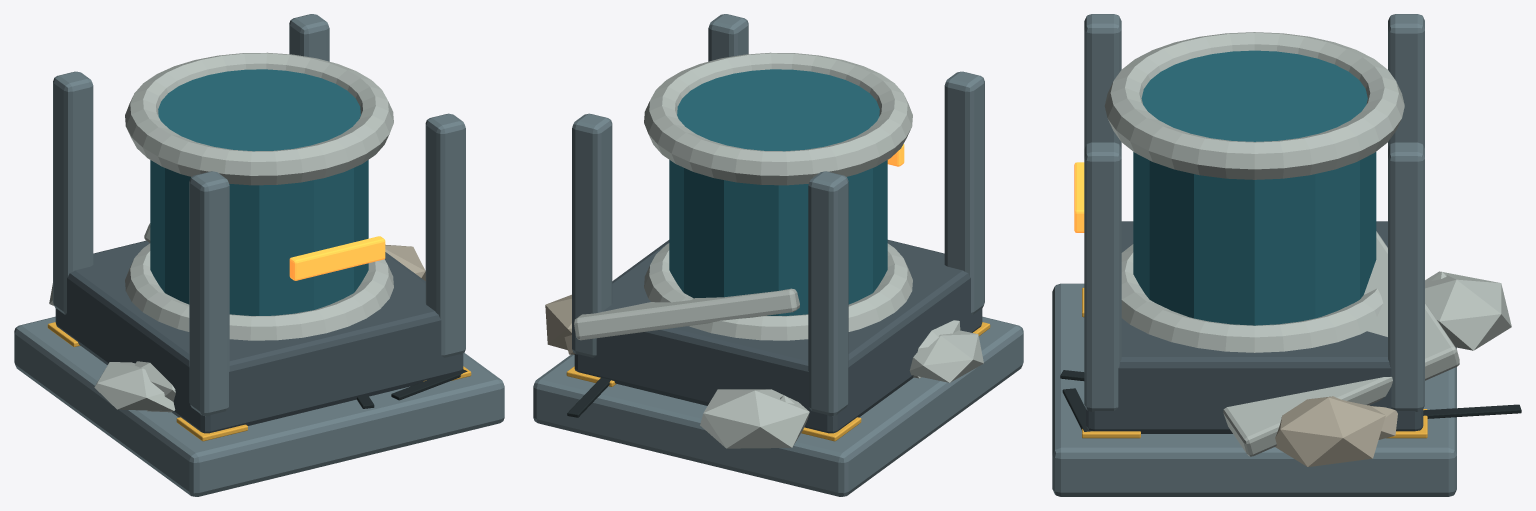
Rendered from research_specimen_crate_d2.glb.
3 renders of one model, left to right at view 1: azimuth 30°, elevation 25°; view 2: azimuth 150°, elevation 25°; view 3: azimuth 270°, elevation 25°, orthographic. The views are drawn at different scales.
Visible parts, largest first — view 1: Cryogenic vessel.002, Shock cradle.002, Foundation.034, Pressure collar.005, Impact guard.008, Impact guard.010, Impact guard.009, Pressure collar.004, Bounded fractured debris.236, Specimen indicator.002, Impact guard.011, Bounded fractured debris.240 (+3 smaller); view 2: Cryogenic vessel.002, Shock cradle.002, Foundation.034, Pressure collar.005, Impact guard.009, Impact guard.008, Impact guard.011, Pressure collar.004, Dislodged lid, Bounded fractured debris.235, Bounded fractured debris.236, Impact guard.010 (+2 smaller); view 3: Cryogenic vessel.002, Foundation.034, Shock cradle.002, Pressure collar.005, Impact guard.010, Impact guard.011, Pressure collar.004, Dislodged lid, Bounded fractured debris.240, Bounded fractured debris.235, Impact guard.008, Impact guard.009 (+3 smaller).
Part boxes in pixels (x1=…): Cryogenic vessel.002: x1=150, y1=69, x2=368, y2=315; Shock cradle.002: x1=55, y1=240, x2=463, y2=433; Foundation.034: x1=14, y1=316, x2=504, y2=496; Pressure collar.005: x1=125, y1=52, x2=393, y2=185; Impact guard.008: x1=189, y1=171, x2=229, y2=416; Impact guard.010: x1=425, y1=113, x2=465, y2=357; Impact guard.009: x1=53, y1=71, x2=93, y2=314; Pressure collar.004: x1=125, y1=243, x2=393, y2=340; Bounded fractured debris.236: x1=94, y1=362, x2=175, y2=410; Specimen indicator.002: x1=289, y1=236, x2=385, y2=280; Impact guard.011: x1=289, y1=14, x2=329, y2=61; Bounded fractured debris.240: x1=385, y1=244, x2=425, y2=280; Cryogenic vessel.002: x1=669, y1=69, x2=887, y2=315; Shock cradle.002: x1=574, y1=240, x2=982, y2=433; Foundation.034: x1=533, y1=316, x2=1023, y2=496; Pressure collar.005: x1=644, y1=52, x2=912, y2=185; Impact guard.009: x1=808, y1=171, x2=848, y2=416; Impact guard.008: x1=944, y1=71, x2=984, y2=314; Impact guard.011: x1=572, y1=113, x2=612, y2=357; Pressure collar.004: x1=644, y1=243, x2=912, y2=340; Dislodged lid: x1=574, y1=288, x2=799, y2=340; Bounded fractured debris.235: x1=700, y1=389, x2=809, y2=448; Bounded fractured debris.236: x1=909, y1=330, x2=983, y2=382; Impact guard.010: x1=708, y1=14, x2=748, y2=61; Cryogenic vessel.002: x1=1133, y1=50, x2=1376, y2=325; Foundation.034: x1=1052, y1=283, x2=1456, y2=496; Shock cradle.002: x1=1086, y1=221, x2=1423, y2=433; Pressure collar.005: x1=1104, y1=32, x2=1404, y2=179; Impact guard.010: x1=1084, y1=142, x2=1121, y2=411; Impact guard.011: x1=1388, y1=142, x2=1424, y2=411; Pressure collar.004: x1=1121, y1=244, x2=1383, y2=352; Dislodged lid: x1=1223, y1=231, x2=1459, y2=456; Bounded fractured debris.240: x1=1275, y1=396, x2=1385, y2=466; Bounded fractured debris.235: x1=1425, y1=271, x2=1511, y2=350; Impact guard.008: x1=1084, y1=14, x2=1121, y2=148; Impact guard.009: x1=1388, y1=14, x2=1424, y2=148.
Size of the model in its own units: 2.84 by 2.17 by 2.78.
